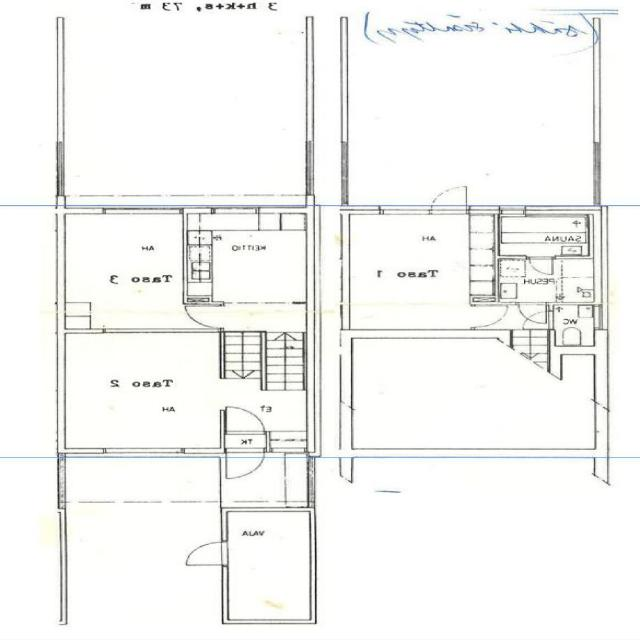door: (226, 448, 264, 483), (432, 182, 466, 215), (226, 406, 264, 434), (188, 542, 228, 565), (187, 306, 225, 328), (470, 306, 508, 327), (519, 302, 547, 323), (522, 311, 554, 329), (529, 256, 553, 274)
